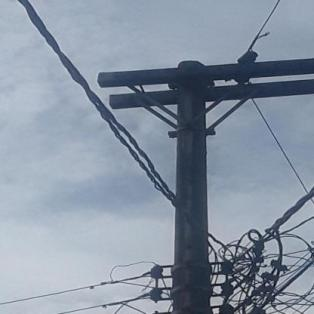Poste: (152, 42, 254, 314)
